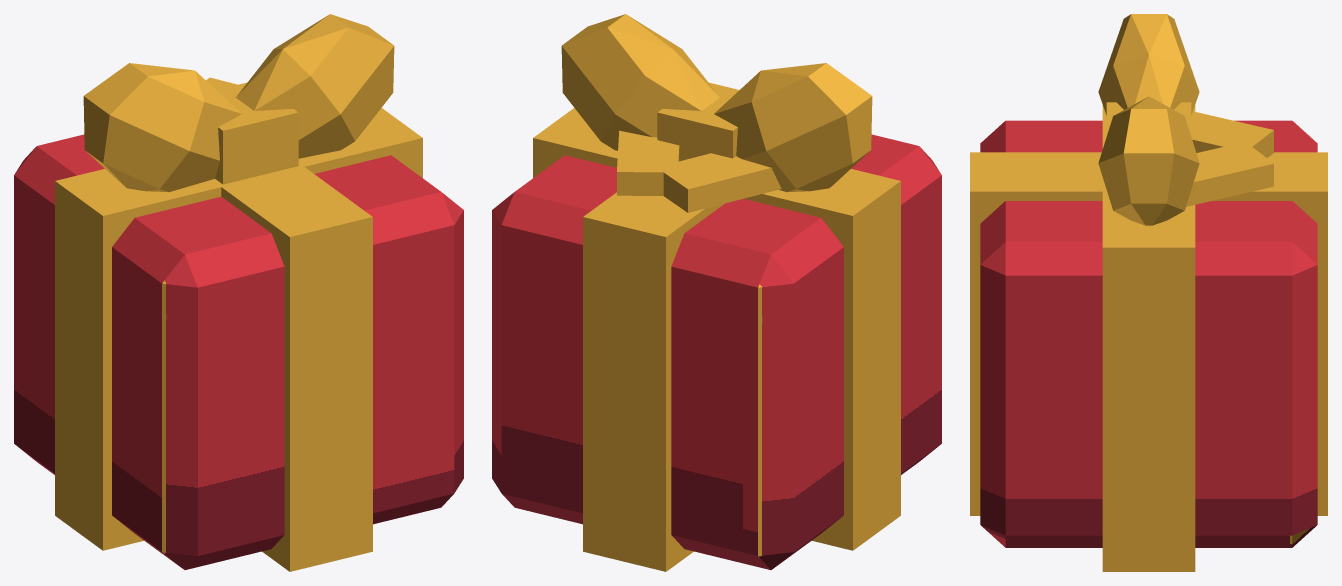
File: gift.glb
3 views of the same model, side by side, from view 1: azimuth 30°, elevation 25°; view 2: azimuth 150°, elevation 25°; view 3: azimuth 270°, elevation 25° (orthographic). The views are drawn at different scales.
Visible parts, largest first — view 1: gift; view 2: gift; view 3: gift.
Part boxes in pixels (box(x1,y1,x2,y2)): gift: box(14, 14, 463, 571); gift: box(492, 14, 941, 571); gift: box(970, 14, 1327, 571).
Size of the model in its own units: 0.424 by 0.5686 by 0.424.
1 material, 1 textured.
